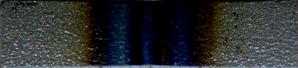soldas: (90, 1, 216, 66)
